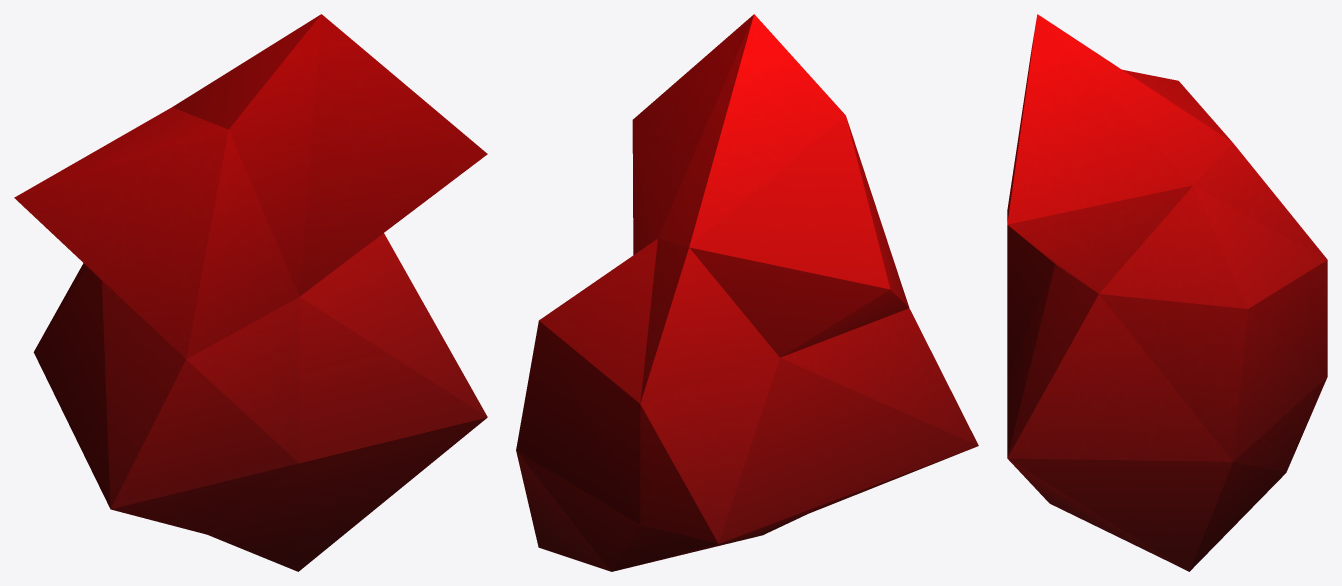
File: Flesh.fbx
3 views of the same model, side by side, from view 1: azimuth 30°, elevation 25°; view 2: azimuth 150°, elevation 25°; view 3: azimuth 270°, elevation 25° (orthographic). The views are drawn at different scales.
Parts seen in each view (by area): view 1: Flesh; view 2: Flesh; view 3: Flesh.
Boxes of the visible parts, x1,y1,x2,y2 form: Flesh: (14, 14, 487, 571); Flesh: (516, 14, 978, 571); Flesh: (1007, 14, 1327, 571).
Bounding box in the file's own units: 10 × 14.16 × 8.28.
